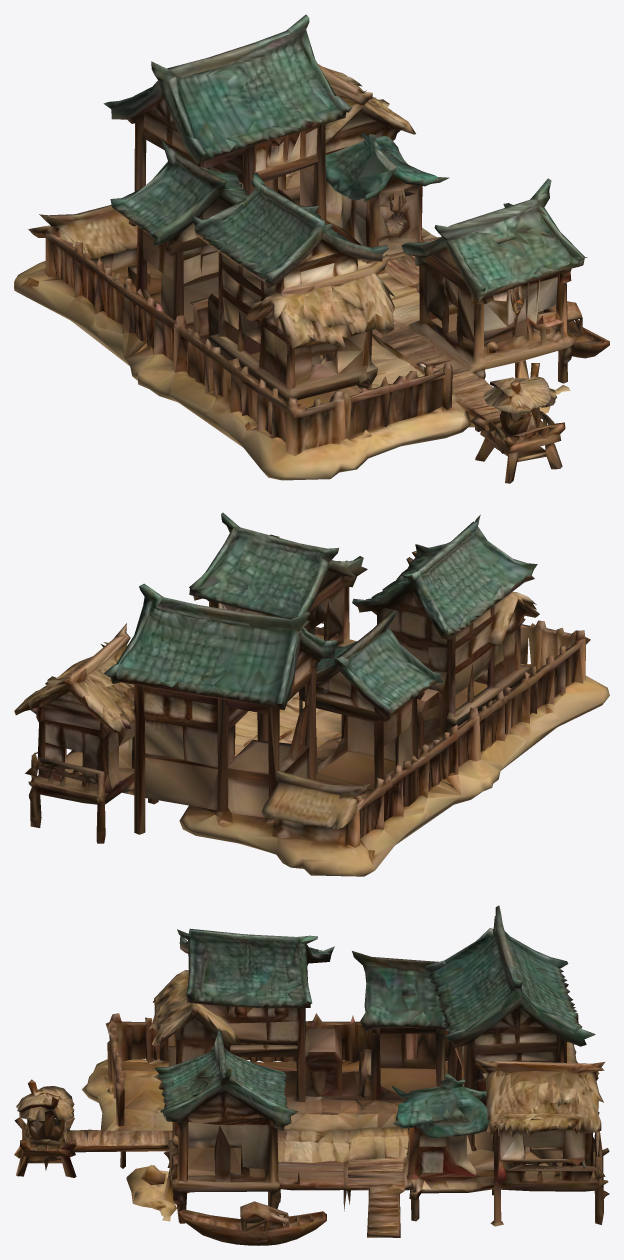
File: liangshan.glb
The picture shows the model from 3 angles, top to bottom: view 1: azimuth 30°, elevation 25°; view 2: azimuth 150°, elevation 25°; view 3: azimuth 270°, elevation 25°; orthographic projection. The views are drawn at different scales.
Visible parts, largest first — view 1: tripo_node_5fc0a85b-f633-43ca-a9c8-6355f696b180; view 2: tripo_node_5fc0a85b-f633-43ca-a9c8-6355f696b180; view 3: tripo_node_5fc0a85b-f633-43ca-a9c8-6355f696b180.
Part boxes in pixels (x1,y1,x2,y2): tripo_node_5fc0a85b-f633-43ca-a9c8-6355f696b180: [14, 14, 609, 483]; tripo_node_5fc0a85b-f633-43ca-a9c8-6355f696b180: [14, 512, 609, 876]; tripo_node_5fc0a85b-f633-43ca-a9c8-6355f696b180: [14, 905, 609, 1245].
Bounding box in the file's own units: 14.9 × 8.85 × 22.04.
Materials: 1 (1 with a texture image).
